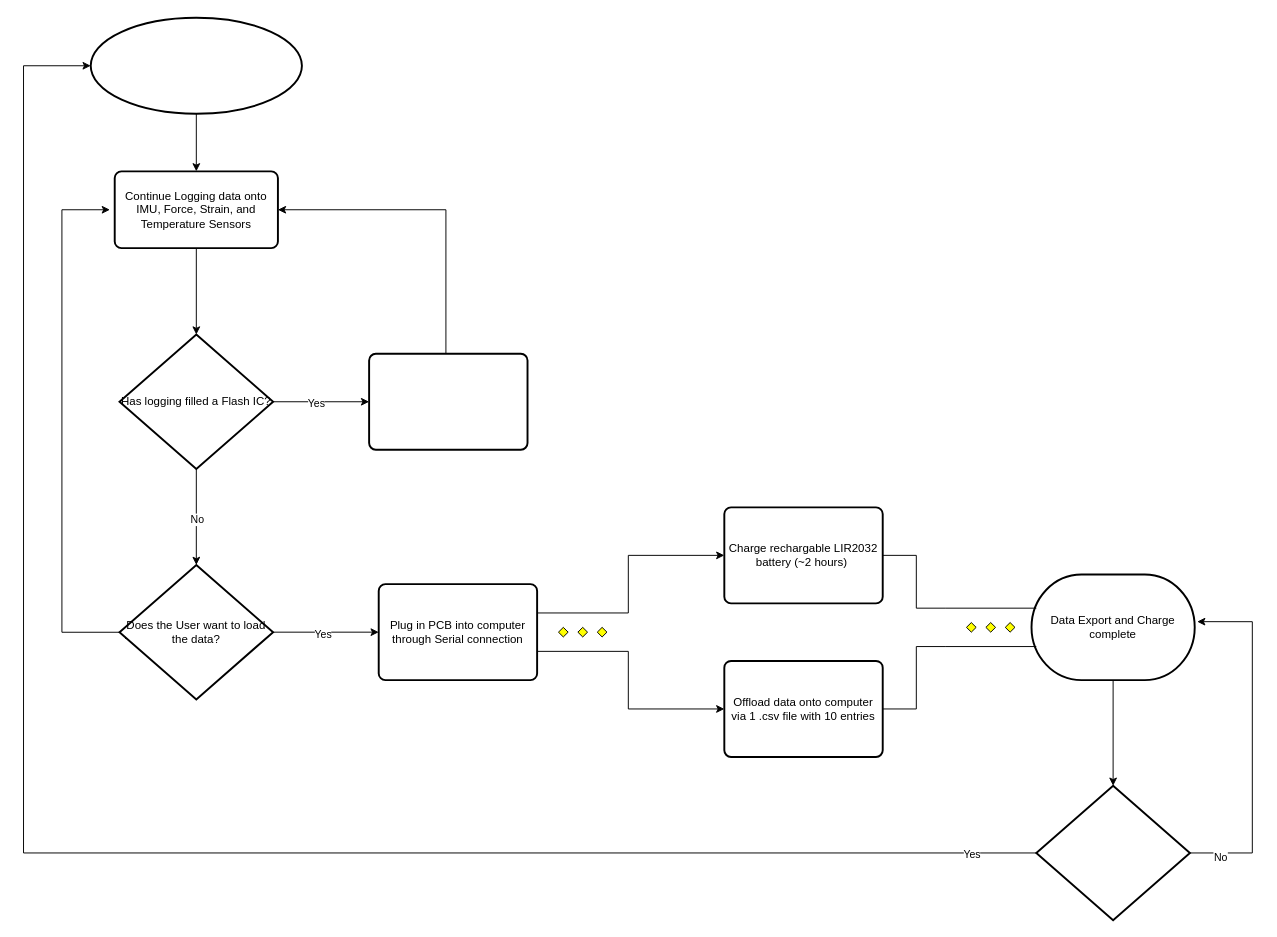
This 1277x937 diagram has some shape labels left out. Here are the shapes that lost their labels. From the top down, the centre of each, then its label:
At point (195, 65): "Disconnect Charging Circuit and Install PCB onto chicken".
At point (448, 401): "Wipe last entry on Flash ICs and add newest entry onto the stack".
At point (1112, 852): "Resume operation for the same or another chicken?".
